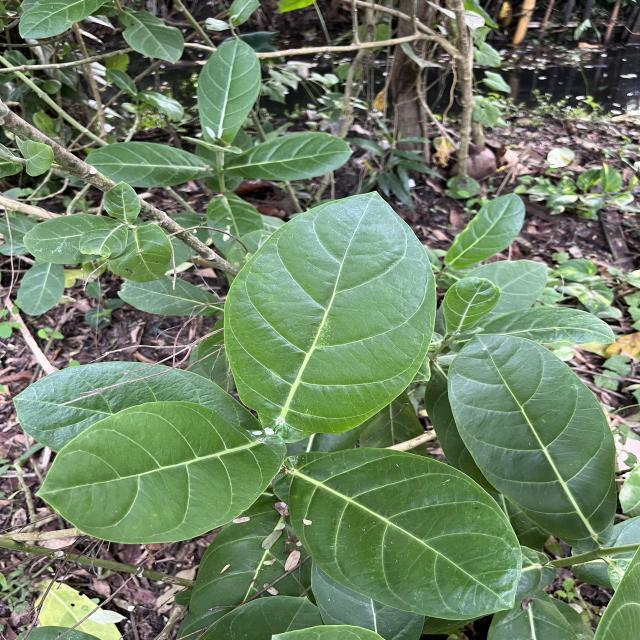Calotropis gigantea: (221, 189, 438, 445), (271, 444, 524, 624), (446, 330, 619, 556), (444, 332, 620, 554), (33, 399, 290, 546), (9, 360, 259, 453), (197, 38, 263, 147), (222, 131, 355, 182), (442, 192, 526, 270), (84, 141, 215, 189)
